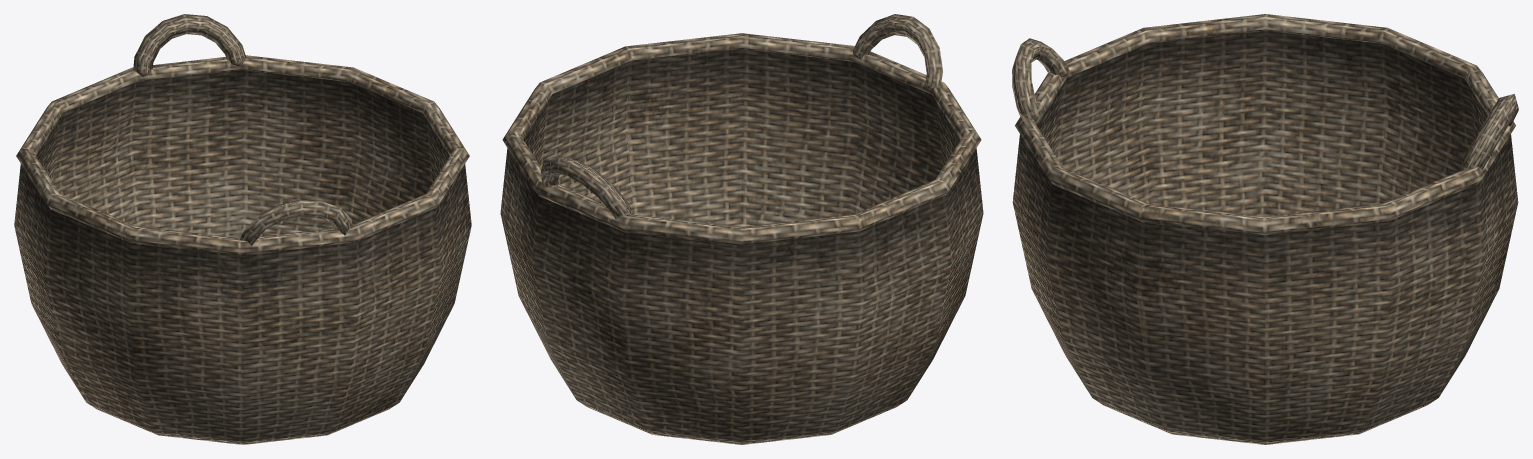
The model's file is Basket2.fbx.
The picture shows the model from 3 angles, left to right: view 1: azimuth 30°, elevation 25°; view 2: azimuth 150°, elevation 25°; view 3: azimuth 270°, elevation 25°; orthographic projection. The views are drawn at different scales.
Parts seen in each view (by area): view 1: polySurface257; view 2: polySurface257; view 3: polySurface257.
Boxes of the visible parts, left/top/right/bottom form: polySurface257: left=14, top=14, right=471, bottom=444; polySurface257: left=500, top=14, right=983, bottom=444; polySurface257: left=1012, top=14, right=1518, bottom=444.
Size of the model in its own units: 1.23 by 0.7911 by 1.23.
1 material, 1 textured.
